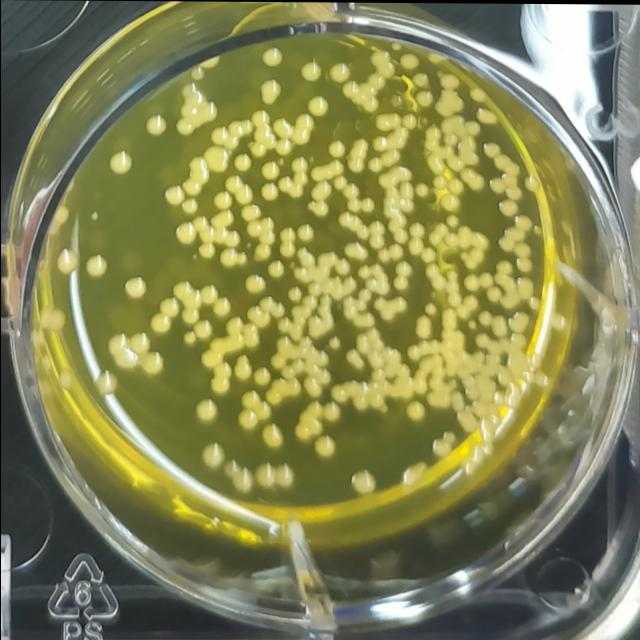StaphyloPositive: (440, 309, 479, 377), (173, 81, 220, 137), (109, 332, 164, 373), (340, 77, 389, 112), (494, 215, 532, 257), (198, 336, 242, 369), (234, 393, 272, 428), (292, 402, 322, 440), (180, 156, 208, 196), (252, 463, 294, 488), (265, 377, 301, 405), (306, 304, 334, 338), (372, 294, 408, 320), (488, 173, 522, 200), (319, 274, 355, 299), (224, 174, 254, 204), (197, 226, 241, 246), (370, 129, 410, 151), (245, 214, 275, 243), (406, 337, 443, 360), (200, 145, 230, 173), (290, 113, 314, 146), (376, 167, 412, 189), (304, 369, 332, 397), (347, 137, 367, 175), (257, 76, 283, 105), (208, 363, 232, 394), (260, 422, 286, 450), (201, 440, 226, 468), (308, 162, 344, 181), (218, 246, 249, 267), (312, 435, 338, 460), (369, 49, 394, 75), (493, 152, 520, 174), (194, 397, 218, 421), (304, 93, 328, 117), (259, 296, 287, 316), (240, 321, 259, 350), (290, 157, 310, 183), (245, 307, 271, 327), (276, 178, 304, 196), (374, 112, 402, 130), (413, 315, 433, 340), (321, 400, 343, 422), (242, 273, 264, 295), (210, 296, 232, 318), (366, 273, 390, 293), (232, 354, 250, 380), (325, 138, 347, 159), (191, 319, 213, 339), (379, 148, 400, 168), (249, 366, 270, 386), (251, 243, 271, 261), (398, 179, 414, 201), (223, 315, 242, 333), (358, 196, 376, 213)
